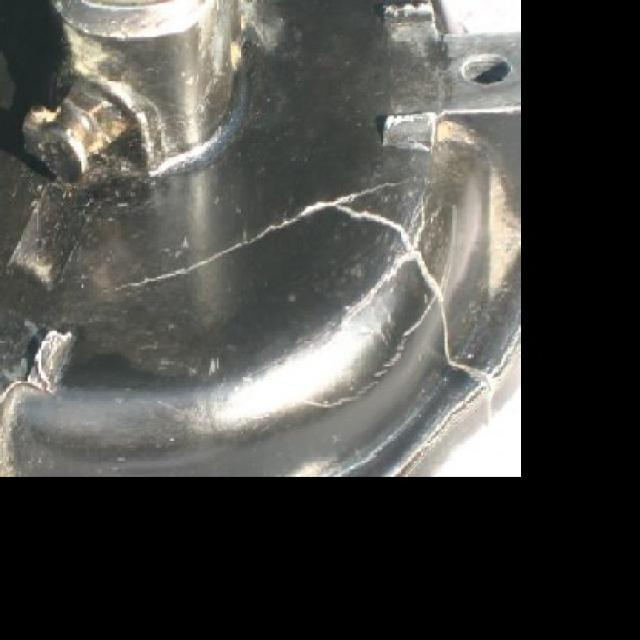crack: (232, 206, 326, 251), (127, 255, 224, 291), (337, 206, 411, 245), (330, 184, 395, 201), (439, 298, 455, 363), (417, 250, 440, 295)
